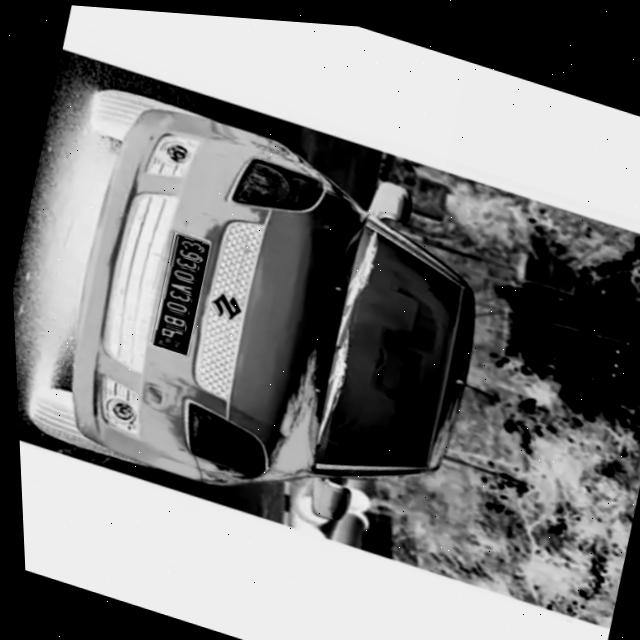0: (168, 263, 193, 279), (161, 296, 185, 312)
3: (170, 252, 195, 268), (163, 286, 188, 301), (174, 232, 199, 247)
6: (172, 243, 197, 258)
B: (157, 311, 182, 326)
IND: (157, 332, 181, 349)
Indian_registered: (147, 232, 206, 351)
P: (155, 322, 180, 336)
V: (164, 277, 191, 293)
